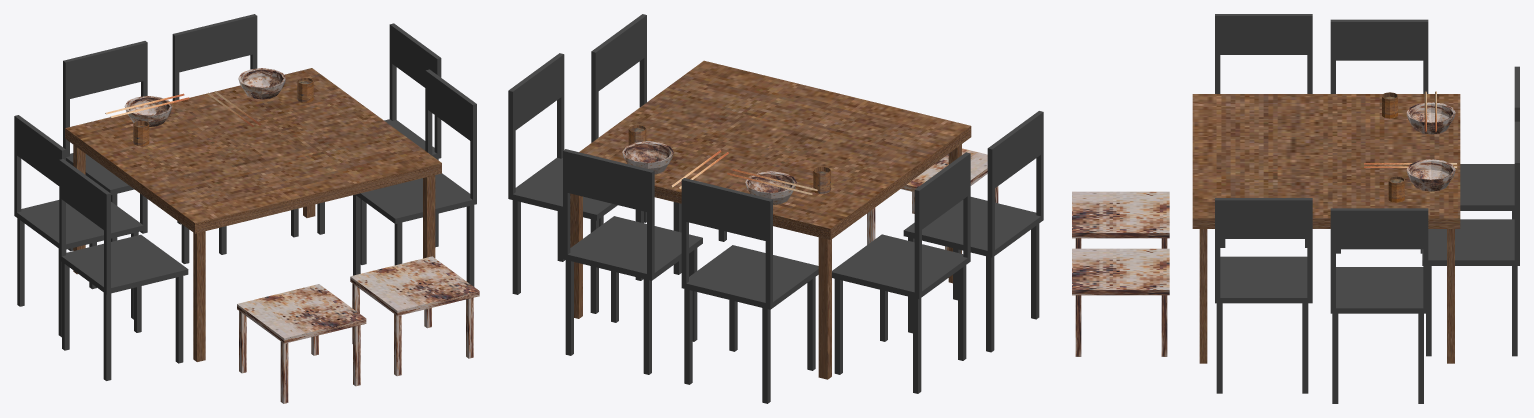
Rendered from Attempt 2.fbx.
3 renders of one model, left to right at view 1: azimuth 30°, elevation 25°; view 2: azimuth 150°, elevation 25°; view 3: azimuth 270°, elevation 25°, orthographic. The views are drawn at different scales.
Parts seen in each view (by area): view 1: pCube6, pCube28, pCube33, pCube35, pCube24, pCube25, pCube26, pCube18, pCube32, pSphere1, pSphere4; view 2: pCube6, pCube26, pCube18, pCube35, pCube28, pCube32, pCube33, pCube24, pSphere1, pSphere4; view 3: pCube6, pCube33, pCube32, pCube25, pCube18, pCube24, pCube35, pCube28, pCube26, pSphere1, pSphere4, pCylinder3 (+1 smaller).
Part boxes in pixels (x1=…): pCube6: x1=65, y1=68, x2=441, y2=361; pCube28: x1=59, y1=159, x2=188, y2=380; pCube33: x1=353, y1=69, x2=476, y2=286; pCube35: x1=14, y1=115, x2=143, y2=337; pCube24: x1=237, y1=284, x2=366, y2=403; pCube25: x1=350, y1=256, x2=479, y2=376; pCube26: x1=63, y1=41, x2=189, y2=263; pCube18: x1=172, y1=14, x2=298, y2=254; pCube32: x1=317, y1=23, x2=441, y2=264; pSphere1: x1=238, y1=68, x2=285, y2=99; pSphere4: x1=124, y1=96, x2=172, y2=126; pCube6: x1=570, y1=60, x2=971, y2=379; pCube26: x1=681, y1=178, x2=818, y2=403; pCube18: x1=563, y1=149, x2=702, y2=374; pCube35: x1=832, y1=152, x2=970, y2=393; pCube28: x1=903, y1=111, x2=1043, y2=352; pCube32: x1=508, y1=53, x2=643, y2=313; pCube33: x1=591, y1=14, x2=726, y2=274; pCube24: x1=867, y1=148, x2=998, y2=250; pSphere1: x1=622, y1=141, x2=673, y2=174; pSphere4: x1=745, y1=171, x2=796, y2=204; pCube6: x1=1192, y1=94, x2=1460, y2=363; pCube33: x1=1215, y1=198, x2=1312, y2=393; pCube32: x1=1330, y1=208, x2=1428, y2=403; pCube25: x1=1072, y1=248, x2=1169, y2=356; pCube18: x1=1422, y1=121, x2=1519, y2=356; pCube24: x1=1072, y1=191, x2=1169, y2=248; pCube35: x1=1330, y1=19, x2=1428, y2=253; pCube28: x1=1215, y1=14, x2=1312, y2=247; pCube26: x1=1460, y1=66, x2=1519, y2=219; pSphere1: x1=1406, y1=159, x2=1455, y2=191; pSphere4: x1=1406, y1=102, x2=1455, y2=134; pCylinder3: x1=1388, y1=176, x2=1404, y2=202.
Size of what is drawn, in the model's own units: 3.5 by 1.61 by 3.37.
6 materials, 5 textured.
